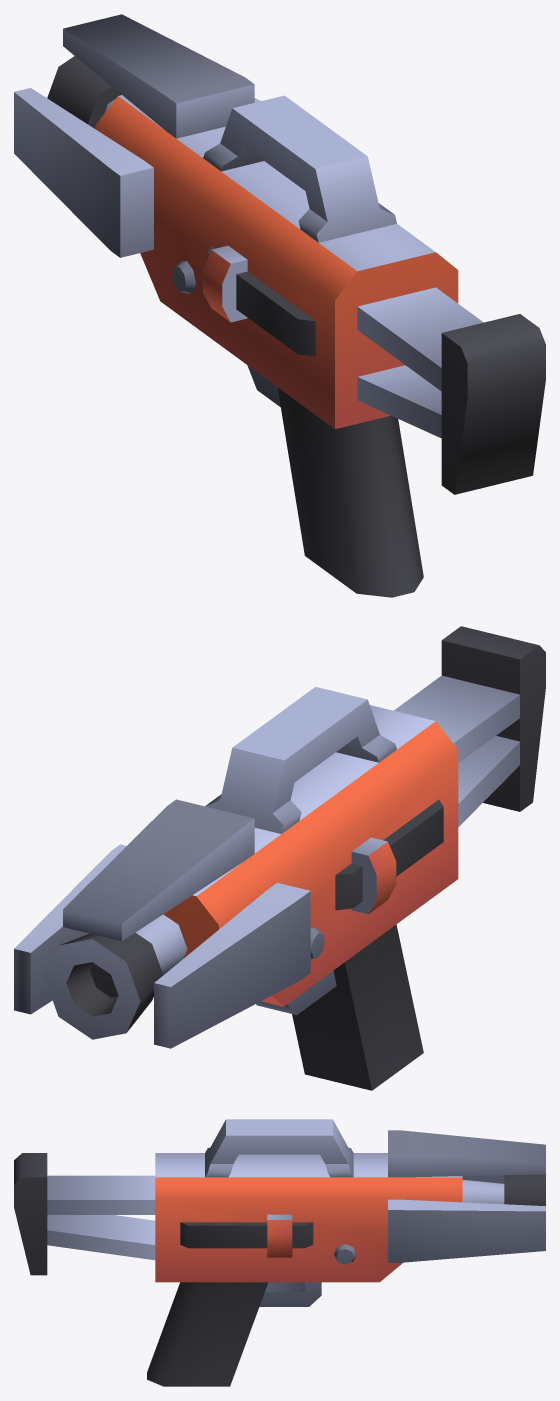
Rendered from gun.obj.
3 renders of one model, top to bottom at view 1: azimuth 30°, elevation 25°; view 2: azimuth 150°, elevation 25°; view 3: azimuth 270°, elevation 25°, orthographic. The views are drawn at different scales.
Visible parts, largest first — view 1: gun; view 2: gun; view 3: gun.
Part boxes in pixels (x1,y1,x2,y2): gun: [14, 14, 545, 597]; gun: [14, 626, 545, 1090]; gun: [14, 1119, 545, 1386].
Bounding box in the file's own units: 0.17 × 0.33 × 0.6401.
Materials: 1 (1 with a texture image).
